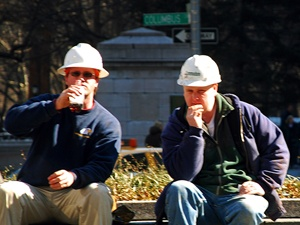white: (178, 52, 219, 114), (62, 42, 102, 96)
